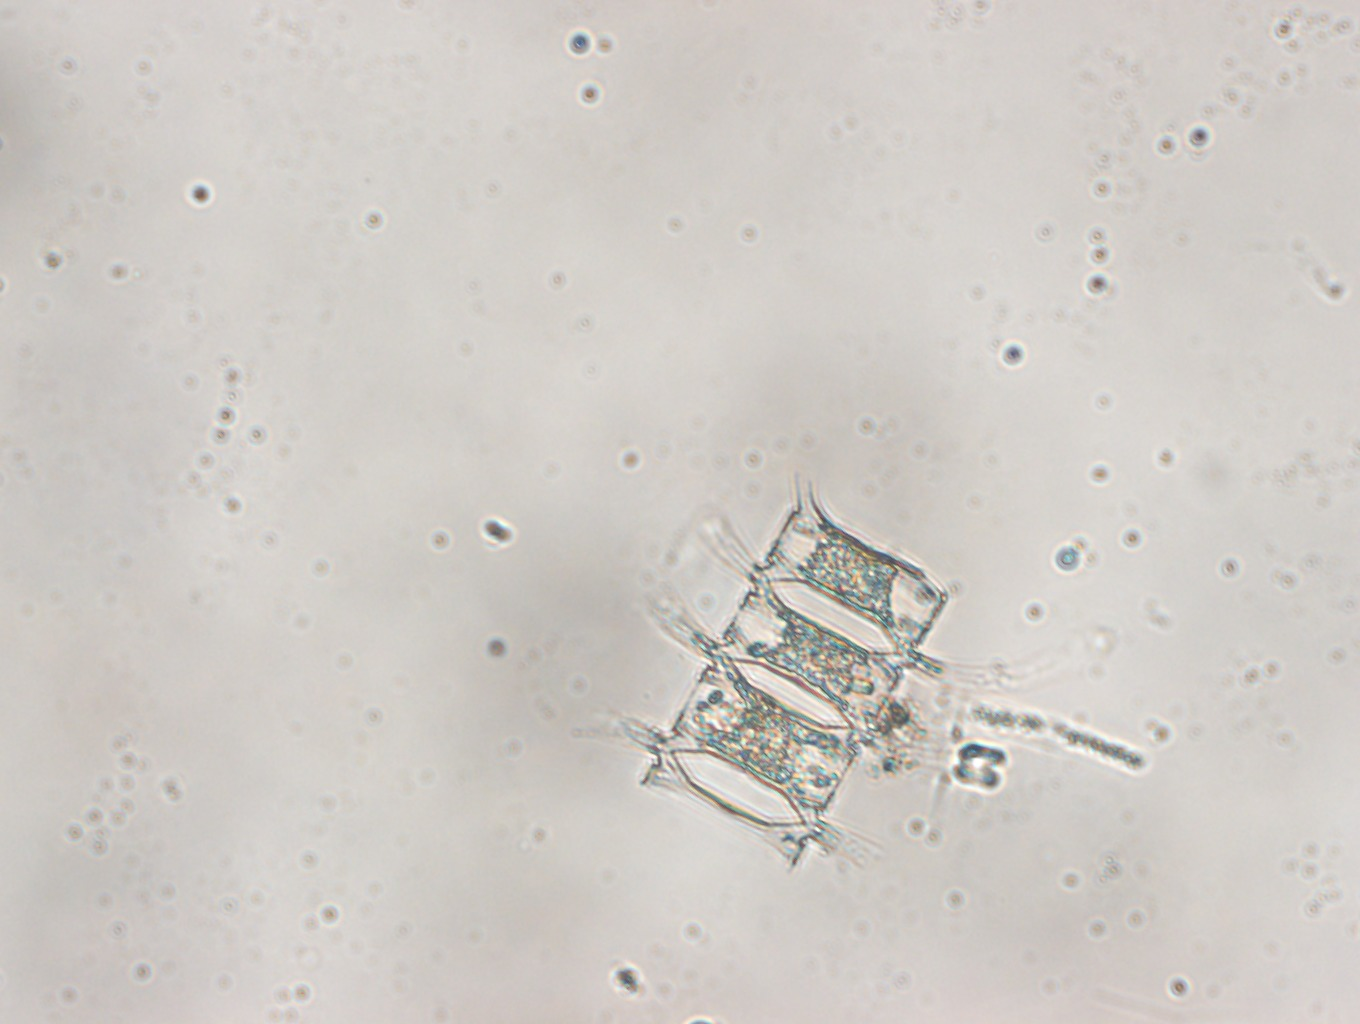chaetoceros: (609, 469, 1021, 872)
